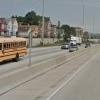Bus: (1, 32, 31, 62)
